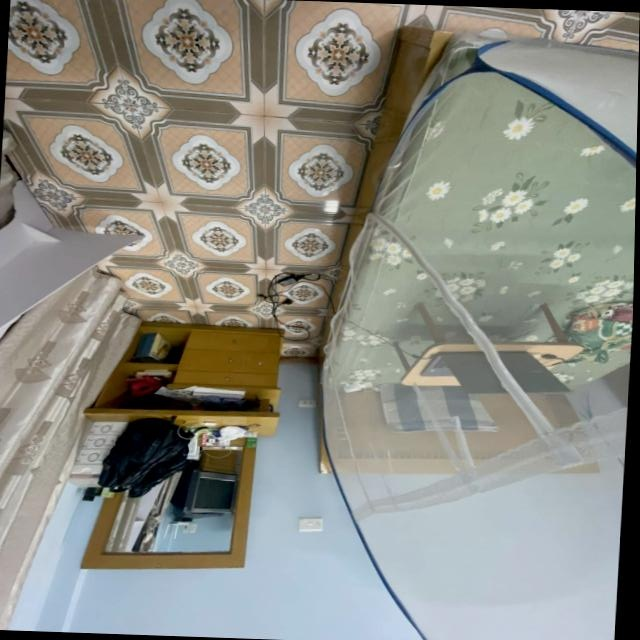outlet: (298, 396, 317, 408)
